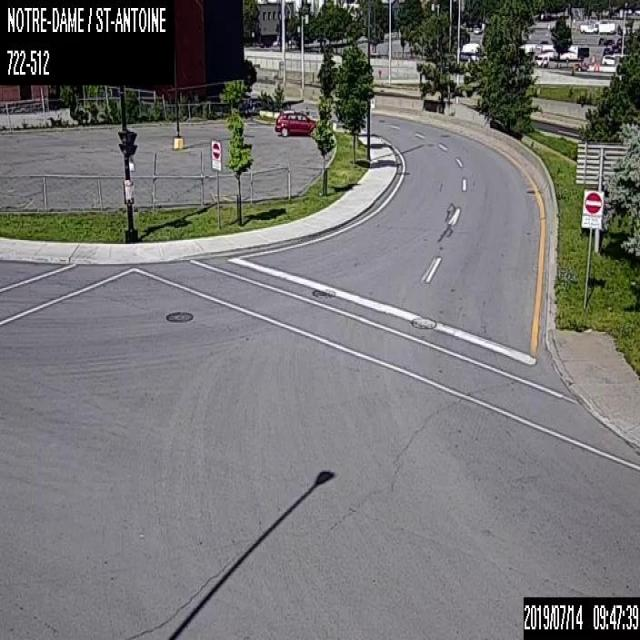vehicle: (274, 110, 320, 136)
